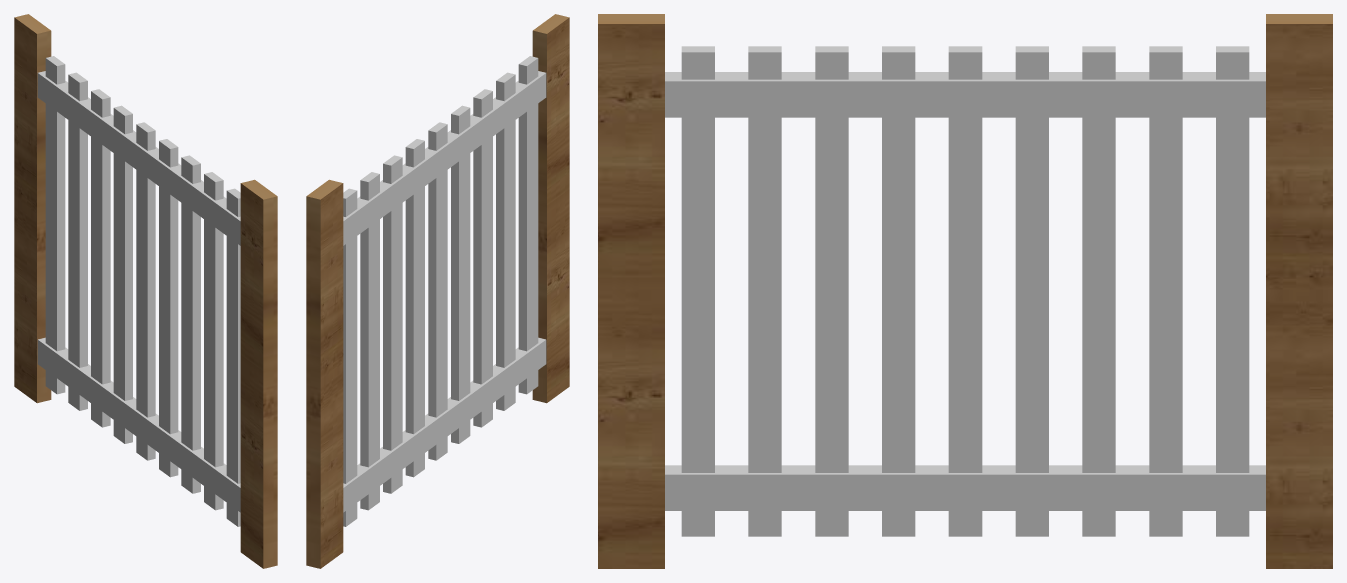
Rendered from MetalFenceV3.fbx.
3 views of the same model, side by side, from view 1: azimuth 30°, elevation 25°; view 2: azimuth 150°, elevation 25°; view 3: azimuth 270°, elevation 25° (orthographic). The views are drawn at different scales.
Visible parts, largest first — view 1: VerticalSlats, Posts, HorizontalSlats; view 2: VerticalSlats, Posts, HorizontalSlats; view 3: VerticalSlats, Posts, HorizontalSlats.
Part boxes in pixels (x1=…): VerticalSlats: x1=45, y1=56, x2=240, y2=526; Posts: x1=14, y1=14, x2=277, y2=568; HorizontalSlats: x1=37, y1=71, x2=240, y2=512; VerticalSlats: x1=343, y1=56, x2=538, y2=526; Posts: x1=306, y1=14, x2=569, y2=568; HorizontalSlats: x1=343, y1=71, x2=546, y2=512; VerticalSlats: x1=681, y1=46, x2=1249, y2=536; Posts: x1=598, y1=14, x2=1332, y2=568; HorizontalSlats: x1=665, y1=72, x2=1265, y2=510.
Size of the model in its own units: 0.72 by 18 by 22.
